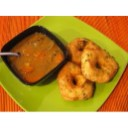vada: (82, 44, 118, 82), (58, 62, 94, 99), (70, 35, 95, 61)
